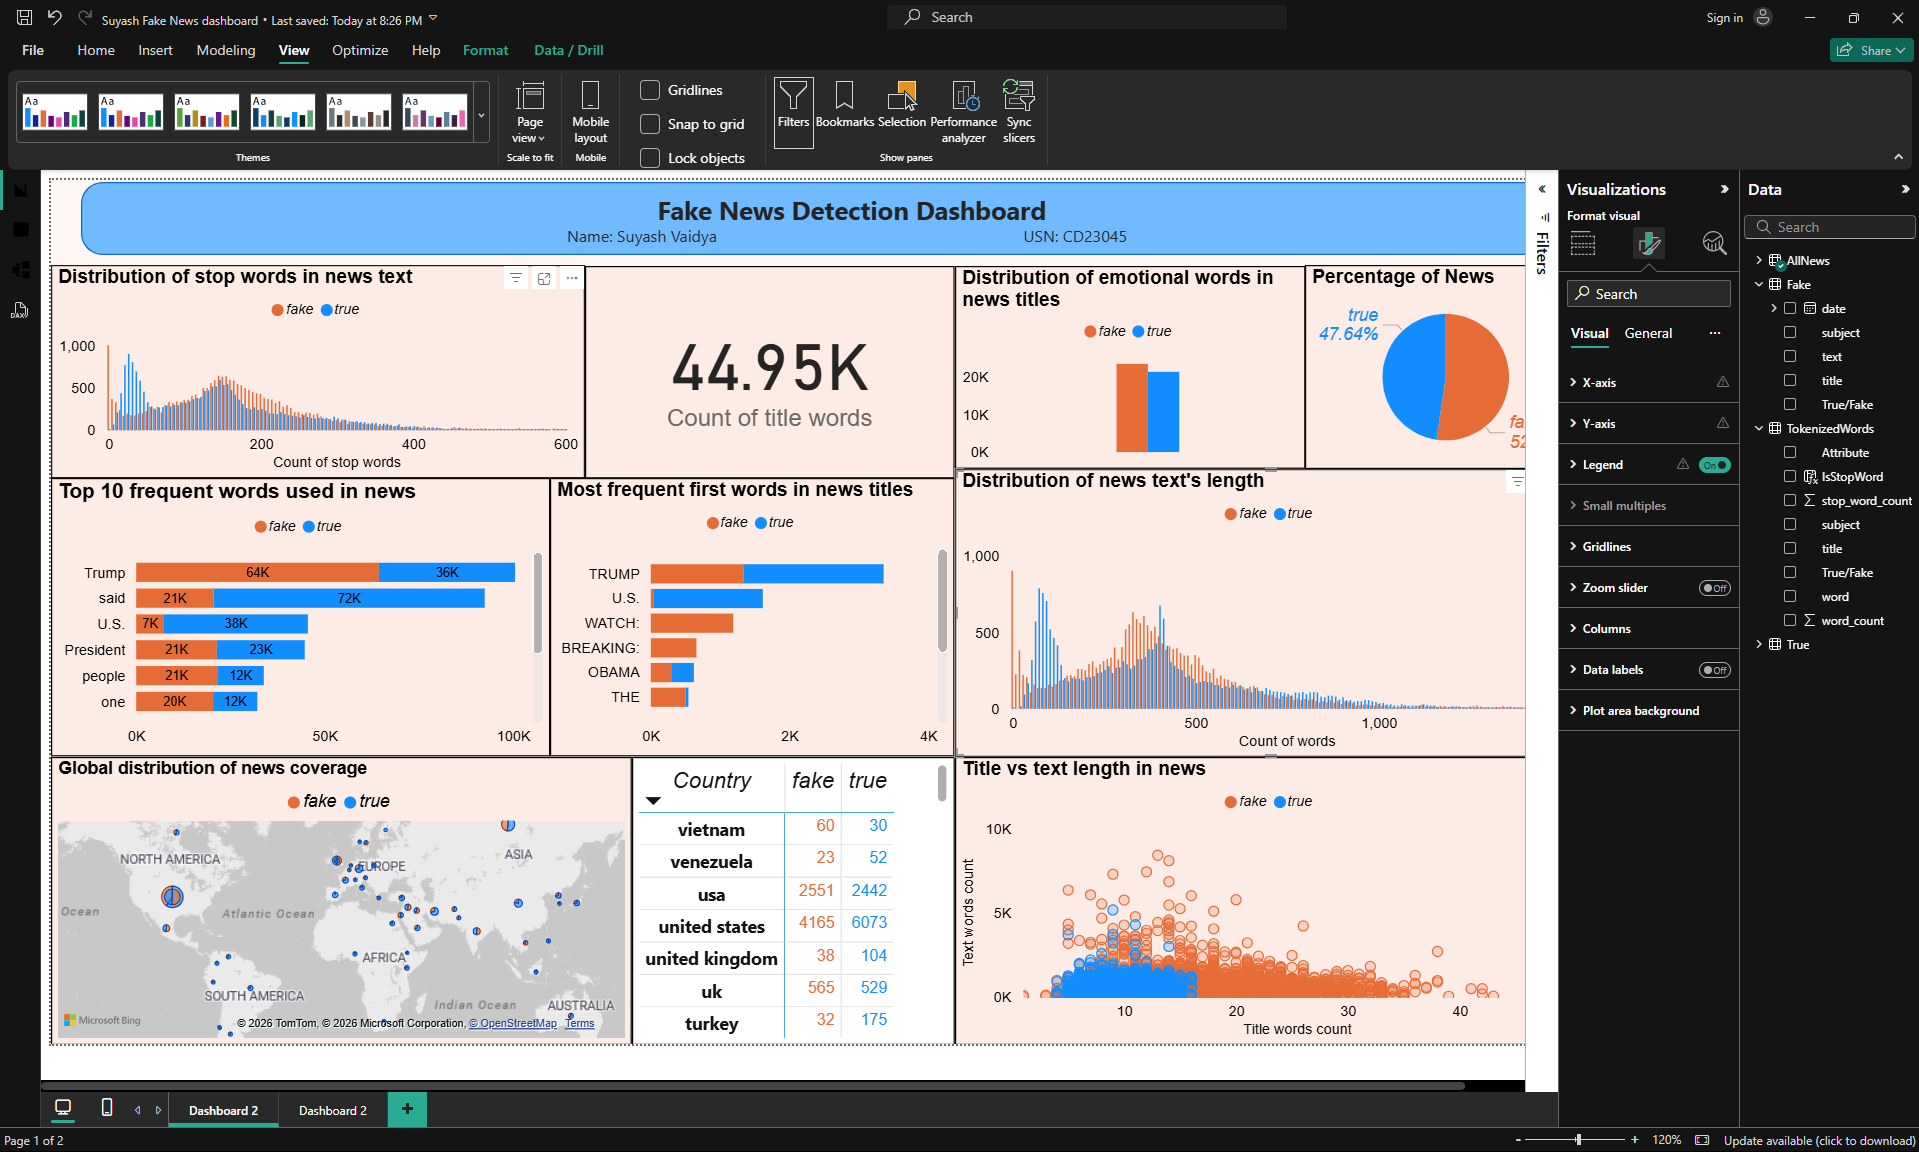

The dashboard page shown, as its layout file describes it:
{"tool":"powerbi","page":{"name":"Dashboard 1","canvas":[1280,720],"ordinal":0},"visuals":[{"type":"map","title":"Global distribution of news coverage","fields":{"Category":["AllNews.Country"],"Series":["AllNews.True/Fake"],"Size":["CountNonNull(AllNews.Season)"]},"box":[0,480.4,483.9,239.8],"z":0},{"type":"pivotTable","fields":{"Rows":["AllNews.Country"],"Columns":["AllNews.True/Fake"],"Values":["CountNonNull(AllNews.title)"]},"box":[483.9,480.4,269.1,239.8],"z":1000},{"type":"scatterChart","title":"Title vs text length in news","fields":{"X":["AllNews.title words"],"Y":["AllNews.word_count"],"Series":["AllNews.True/Fake"]},"box":[753,480.4,527,239.8],"z":2000},{"type":"clusteredColumnChart","title":"Distribution of  news text''s length ","fields":{"Y":["CountNonNull(Append1.True/Fake)"],"Series":["Append1.True/Fake"],"Category":["AllNews.word_count (bins)"]},"box":[753,240.6,527,239.8],"z":3000},{"type":"barChart","title":"Top 10 frequent words used in news","fields":{"Y":["CountNonNull(TokenizedWords.word)"],"Series":["TokenizedWords.True/Fake"],"Category":["TokenizedWords.word"]},"box":[0,248.4,415.7,232],"z":4000},{"type":"barChart","title":"Most frequent first words in news titles","fields":{"Y":["CountNonNull(AllNews.FirstWord)"],"Category":["AllNews.FirstWord"],"Series":["AllNews.True/Fake"]},"box":[415.7,248.4,337.3,232],"z":5000},{"type":"shape","box":[25,1.7,1230,60.8],"z":6000},{"type":"textbox","box":[425.2,5.2,484.7,65.6],"z":7000},{"type":"pieChart","title":"Percentage of News","fields":{"Category":["Append1.True/Fake"],"Y":["CountNonNull(Append1.title)"]},"box":[1045.4,70.7,234.6,169.9],"z":8000},{"type":"clusteredColumnChart","title":"Distribution of emotional words in news titles","fields":{"Y":["CountNonNull(AllNews.EmotionalWordCount)"],"Series":["AllNews.True/Fake"]},"box":[753,71.6,292.4,169.1],"z":9000},{"type":"clusteredColumnChart","title":"Distribution of stop words in news text","fields":{"Category":["Append1.stop_word_count (bins)"],"Y":["CountNonNull(Append1.True/Fake)"],"Series":["Append1.True/Fake"]},"box":[0,70.7,445.1,177.7],"z":10000},{"type":"card","fields":{"Values":["CountNonNull(AllNews.Title_WordCount)"]},"box":[445.1,71.6,307.9,176.8],"z":11000}]}

Visuals, with their boxes on the page's 1280x720 design canvas (x1, y1, x2, y2). These are canvas units, not pixel positions in the 1919x1152 screenshot, which may show the page scaled, cropped or inside an application window:
"Global distribution of news coverage" map: detection(0, 480, 484, 720)
pivotTable - AllNews.Country x AllNews.True/Fake: detection(484, 480, 753, 720)
"Title vs text length in news" scatterChart: detection(753, 480, 1280, 720)
"Distribution of  news text''s length " clusteredColumnChart: detection(753, 241, 1280, 480)
"Top 10 frequent words used in news" barChart: detection(0, 248, 416, 480)
"Most frequent first words in news titles" barChart: detection(416, 248, 753, 480)
shape: detection(25, 2, 1255, 62)
textbox: detection(425, 5, 910, 71)
"Percentage of News" pieChart: detection(1045, 71, 1280, 241)
"Distribution of emotional words in news titles" clusteredColumnChart: detection(753, 72, 1045, 241)
"Distribution of stop words in news text" clusteredColumnChart: detection(0, 71, 445, 248)
card - CountNonNull(AllNews.Title_WordCount): detection(445, 72, 753, 248)
